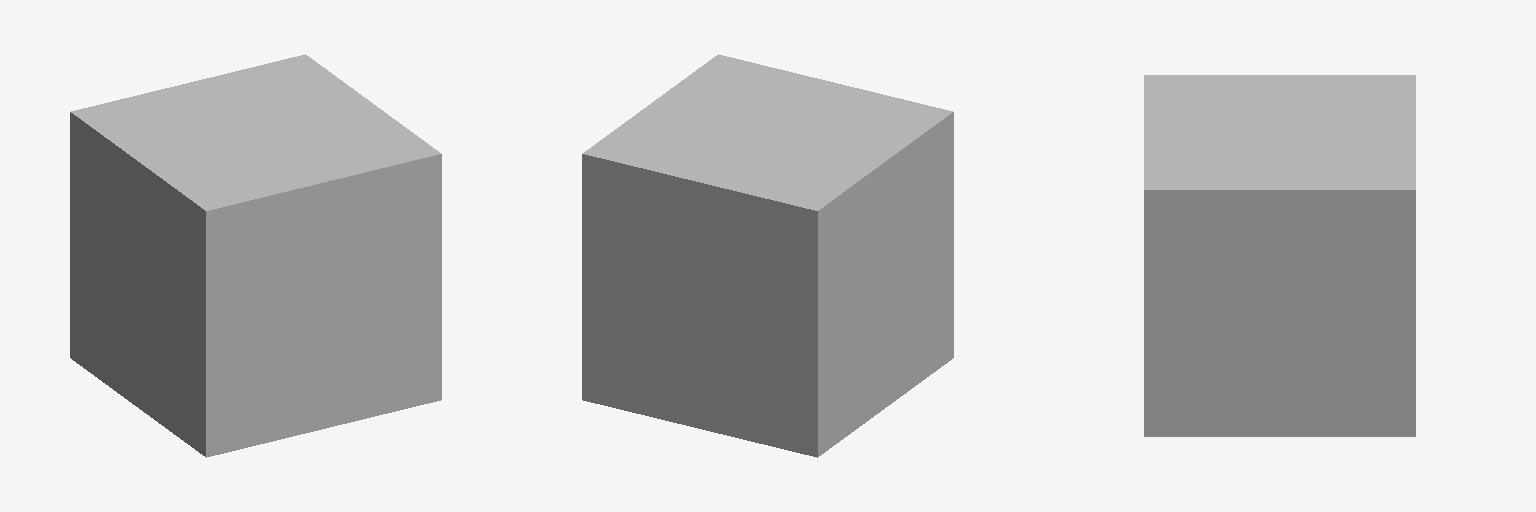
The model's file is cube_flat_vhacd.obj.
The picture shows the model from 3 angles: view 1: azimuth 30°, elevation 25°; view 2: azimuth 150°, elevation 25°; view 3: azimuth 270°, elevation 25°; orthographic projection.
Visible parts, largest first — view 1: convex_0; view 2: convex_0; view 3: convex_0.
Part boxes in pixels (left/top/right/bottom): convex_0: left=70, top=54, right=441, bottom=457; convex_0: left=582, top=54, right=953, bottom=457; convex_0: left=1144, top=75, right=1415, bottom=436.
Bounding box in the file's own units: 2.02 × 2.02 × 2.02.